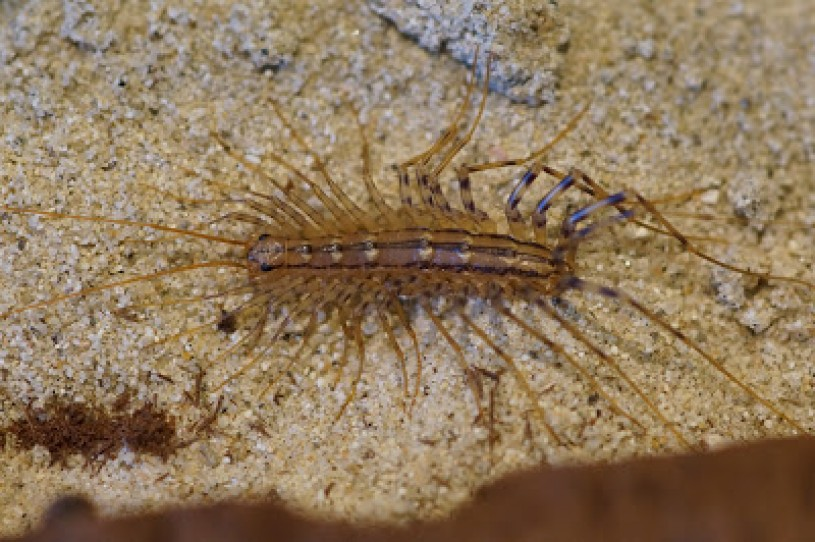centipede: (126, 101, 801, 439)
